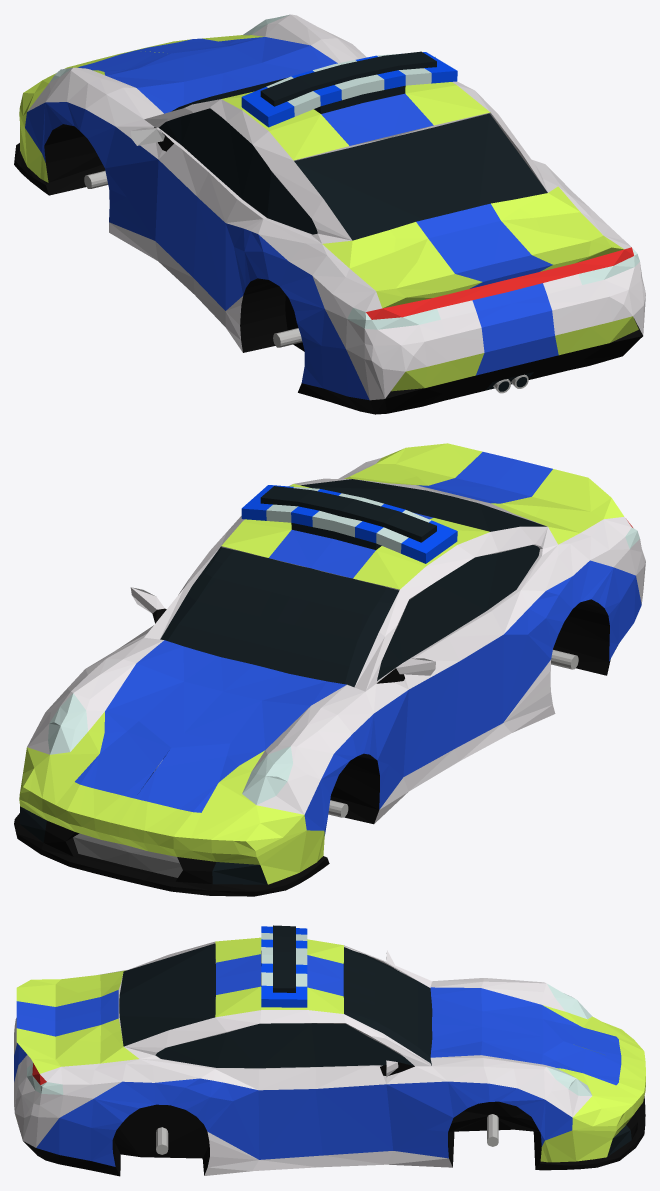
File: ProjectT_policecar.fbx
3 renders of one model, top to bottom at view 1: azimuth 30°, elevation 25°; view 2: azimuth 150°, elevation 25°; view 3: azimuth 270°, elevation 25°, orthographic. The views are drawn at different scales.
Visible parts, largest first — view 1: Cube; view 2: Cube; view 3: Cube.
Boxes of the visible parts, bbox=[...] form: Cube: bbox=[14, 14, 645, 414]; Cube: bbox=[14, 443, 645, 896]; Cube: bbox=[14, 925, 645, 1176].
Bounding box in the file's own units: 116 × 74.11 × 257.
